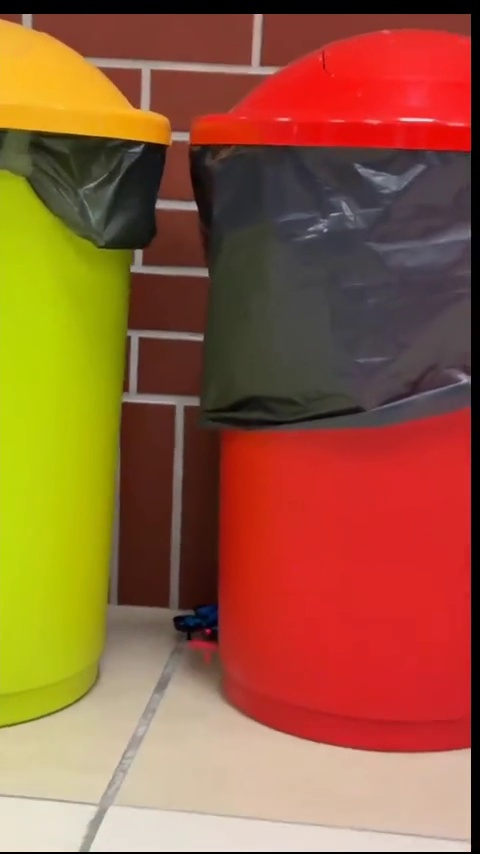drone: (174, 603, 213, 644)
